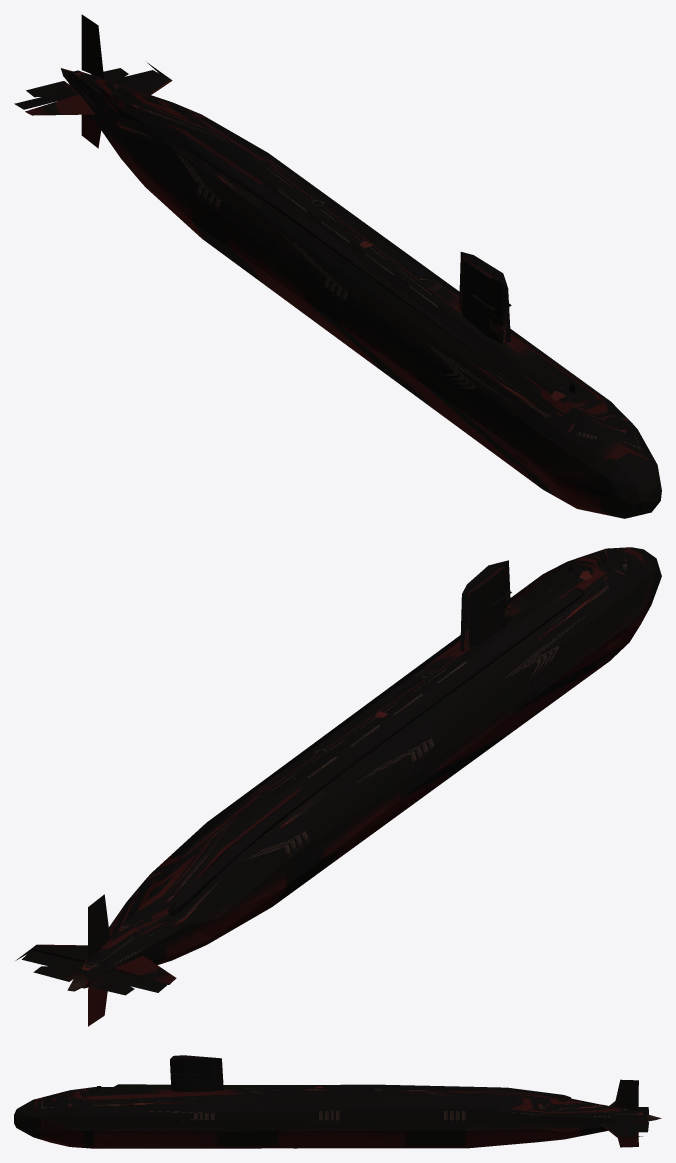
3 renders of one model, top to bottom at view 1: azimuth 30°, elevation 25°; view 2: azimuth 150°, elevation 25°; view 3: azimuth 270°, elevation 25°, orthographic. The views are drawn at different scales.
Visible parts, largest first — view 1: Object_2; view 2: Object_2; view 3: Object_2.
Boxes of the visible parts, <box> form: Object_2: <box>14,14,661,518</box>; Object_2: <box>15,547,661,1026</box>; Object_2: <box>14,1055,661,1148</box>.
Size of the model in its own units: 0.2189 by 0.2442 by 1.58.
Materials: 1 (1 with a texture image).
